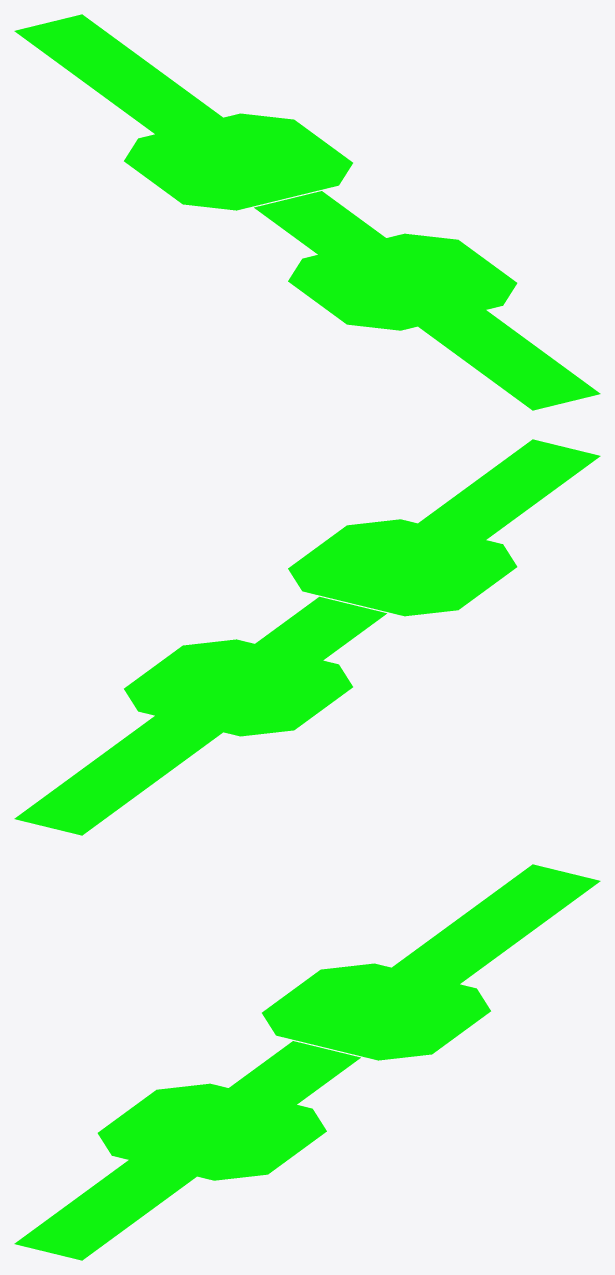
File: s06b_ga1-floor.glb
3 renders of one model, top to bottom at view 1: azimuth 30°, elevation 25°; view 2: azimuth 150°, elevation 25°; view 3: azimuth 330°, elevation 25°, orthographic.
Visible parts, largest first — view 1: collision_floor-colonly; view 2: collision_floor-colonly; view 3: collision_floor-colonly.
Part boxes in pixels (x1,y1,x2,y2): collision_floor-colonly: [14, 14, 600, 410]; collision_floor-colonly: [14, 439, 600, 835]; collision_floor-colonly: [14, 864, 600, 1260].
Size of the model in its own units: 15 by 0.0996 by 79.
